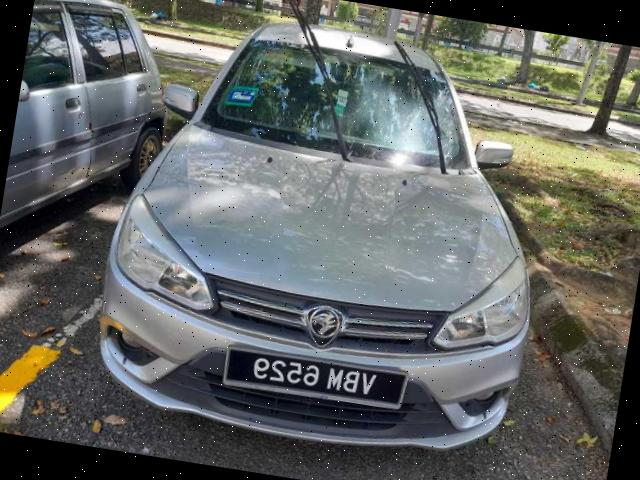License_Plate: (221, 344, 410, 416)
car: (84, 1, 572, 474)
